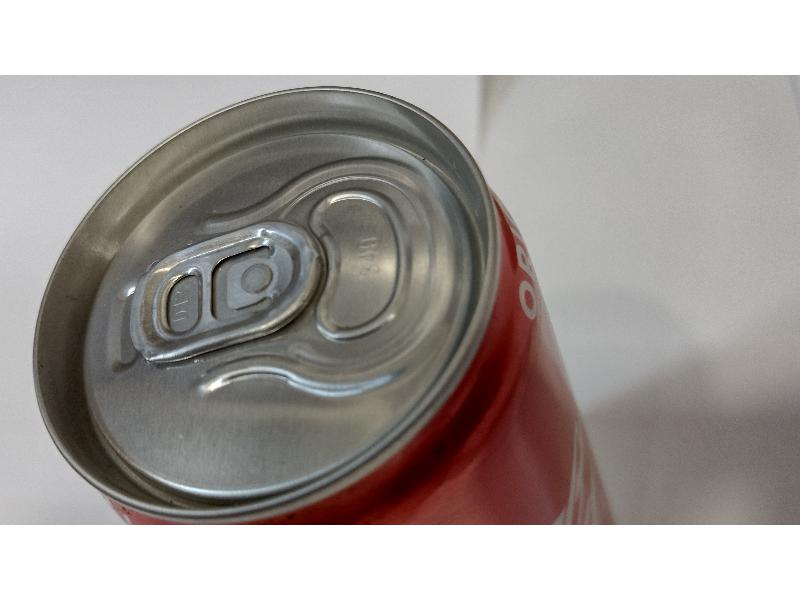can: (35, 84, 562, 522)
